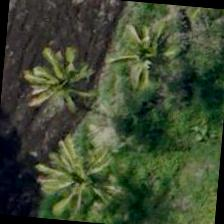Kelapa_Sawit: (9, 37, 107, 135), (96, 14, 194, 112), (32, 133, 130, 223)
